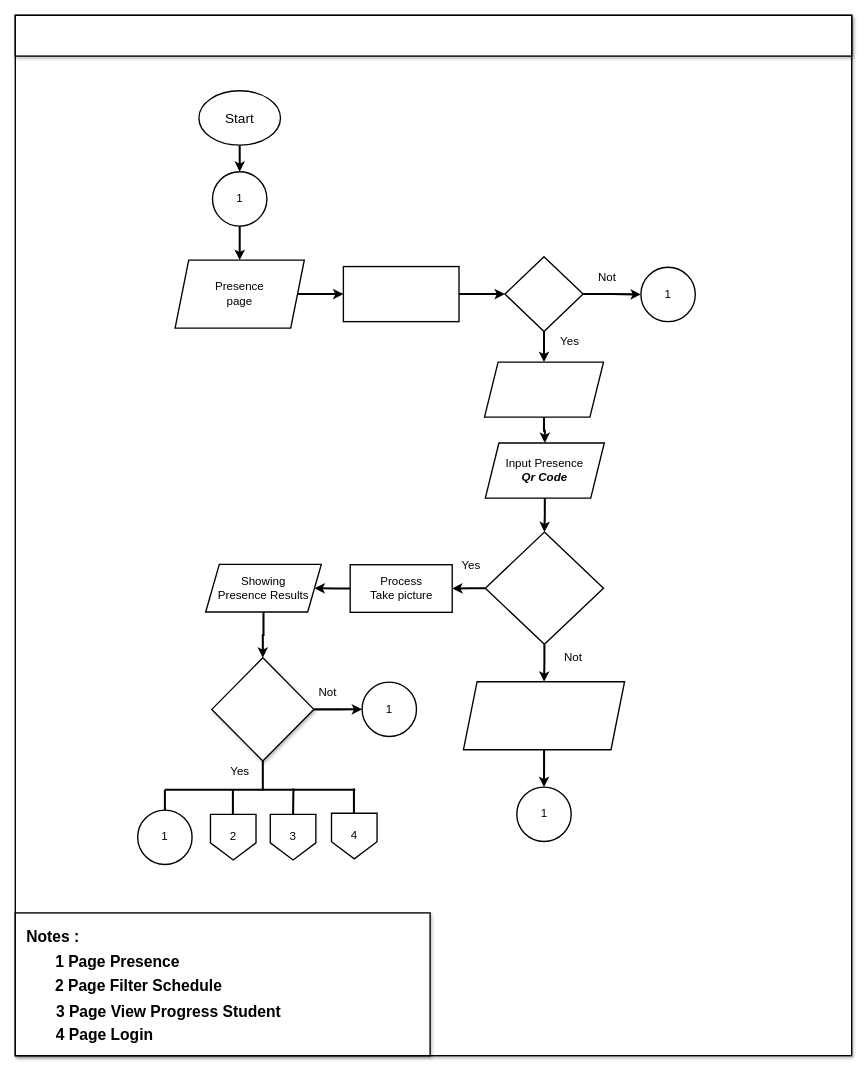
Image size: 868x1072. Some labels were removed from this diagram. Each missing label, with the centre of its shape:
Does the schedule match the Batch?: the point at 544,588
Is there any ?: the point at 543,294
Main Course ?: the point at 263,710
Schedule Fetch Process Daily By Batch: the point at 400,294
Show Daily Schedule: the point at 543,389
Student Attendance Flowchart: the point at 434,36
Warning batch is not the same as schedule: the point at 543,715
